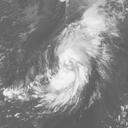cyclone: (31, 41, 92, 115)
